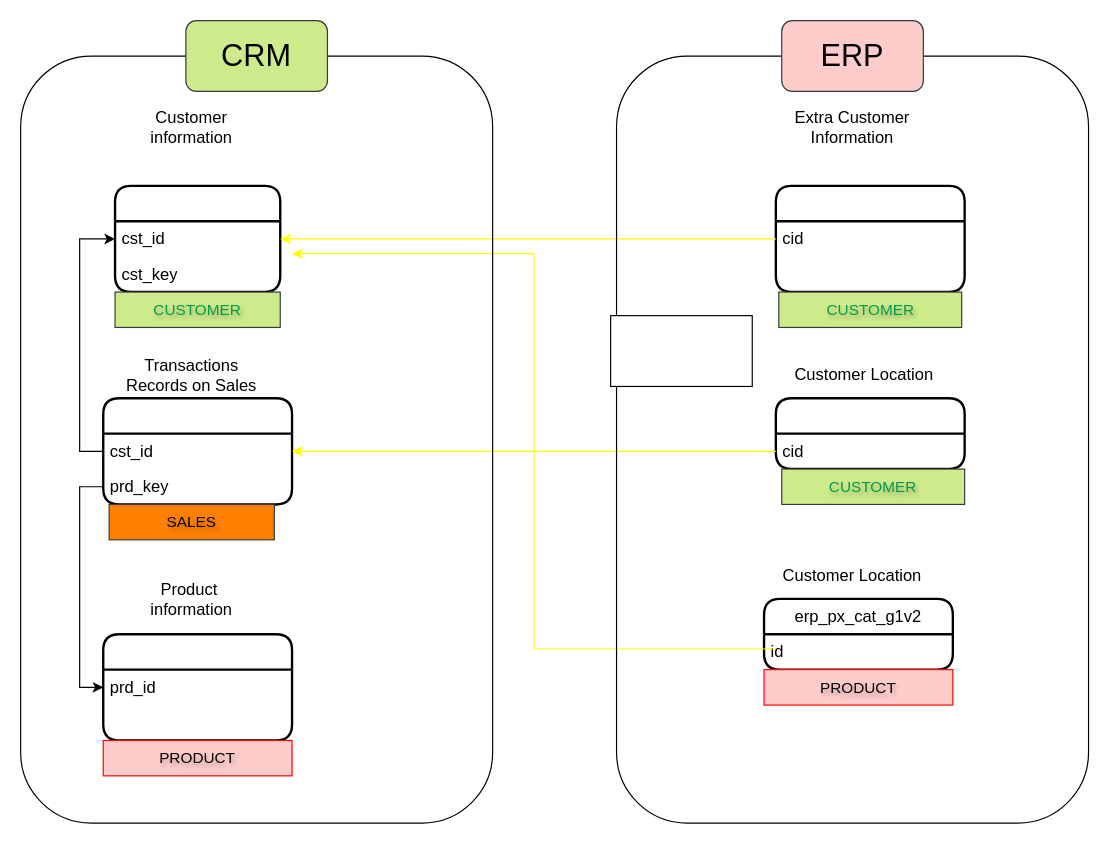
This 1109x844 diagram has some shape labels left out. The shapes that lost their labels are listed below. From the top down, each one's box as (x1, y1, x2, y2) in pixels, then its label:
(113, 184, 281, 293): crm_cust_info
(774, 184, 965, 293): erp_cust_az12
(101, 396, 293, 505): crm_sales_details
(774, 396, 965, 470): erp_loc_a101
(101, 632, 293, 741): crm_prd_info
